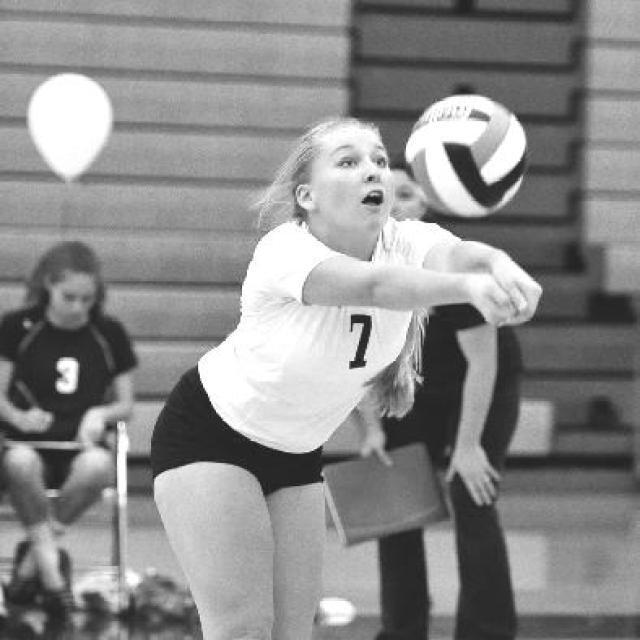volleyball: (404, 94, 533, 217)
